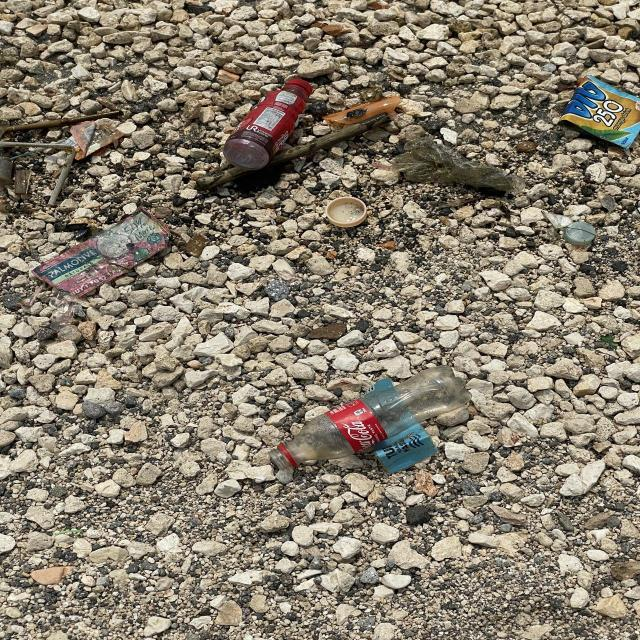plastic_waste: (273, 373, 473, 475), (31, 212, 172, 298), (224, 79, 316, 172), (560, 78, 640, 152), (325, 198, 369, 228), (565, 222, 597, 247)
